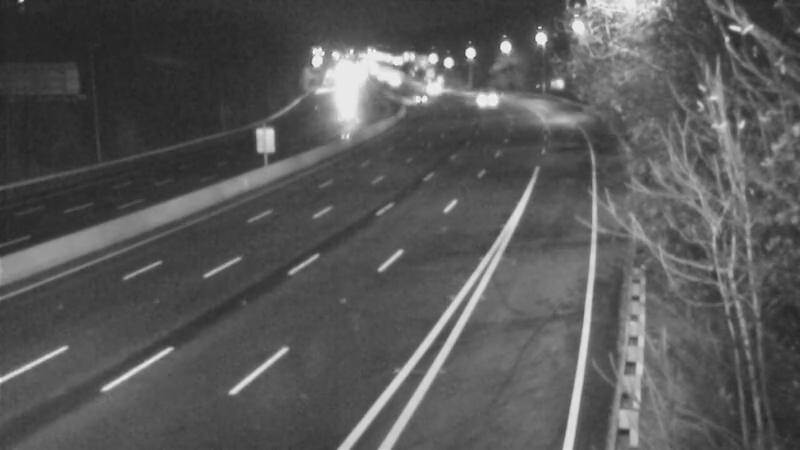vehicle: (409, 64, 459, 114), (393, 74, 443, 124), (459, 68, 509, 118)
